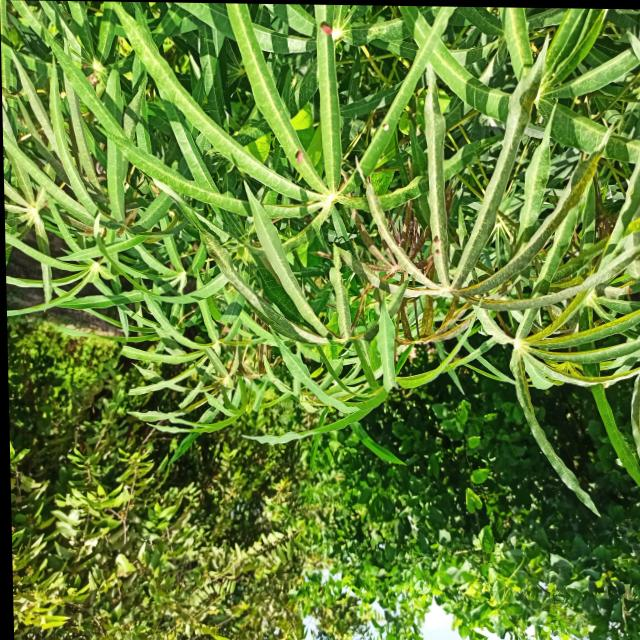Maleza: (30, 434, 406, 640), (426, 406, 622, 610)
Mosca: (423, 227, 443, 262), (289, 144, 306, 176), (318, 17, 338, 38), (92, 135, 111, 155)
